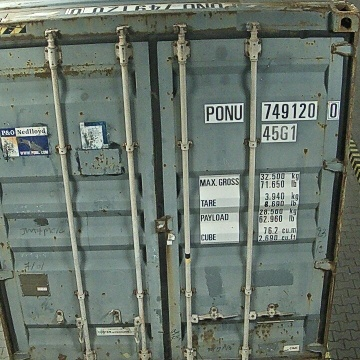serial_id: (206, 103, 338, 121)
